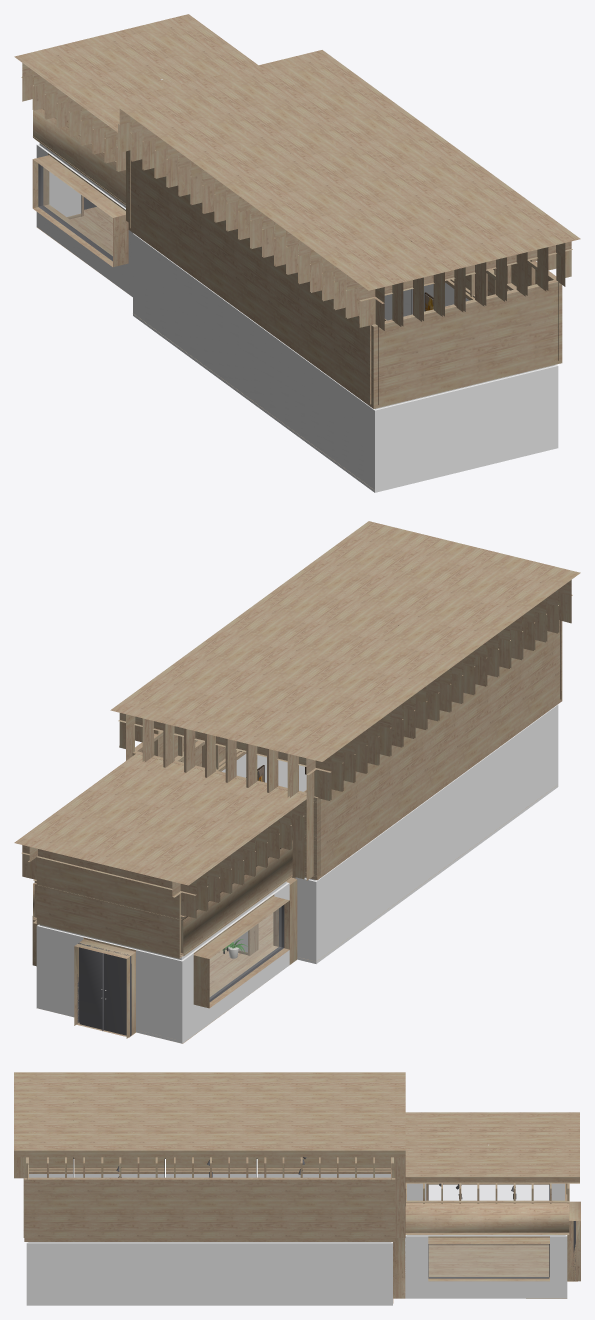
File: gallery.glb
3 views of the same model, one above another, from view 1: azimuth 30°, elevation 25°; view 2: azimuth 150°, elevation 25°; view 3: azimuth 270°, elevation 25° (orthographic). The views are drawn at different scales.
Parts seen in each view (by area): view 1: gallery_ceiling, gallery_walls, gallery_trims, gallery_window_glass, gallery_floor, gallery_door_window_frames; view 2: gallery_ceiling, gallery_walls, gallery_trims, gallery_door_window_frames, gallery_window_glass, gallery_floor; view 3: gallery_ceiling, gallery_walls, gallery_window_glass, gallery_trims, gallery_floor, gallery_door_window_frames.
Part boxes in pixels (box(x1,y1,x2,y2)): gallery_ceiling: box(14, 14, 580, 408); gallery_walls: box(36, 143, 558, 492); gallery_trims: box(32, 153, 386, 488); gallery_window_glass: box(41, 166, 112, 258); gallery_floor: box(36, 206, 123, 290); gallery_door_window_frames: box(38, 163, 112, 261); gallery_ceiling: box(14, 521, 580, 958); gallery_walls: box(36, 704, 558, 1043); gallery_trims: box(32, 786, 555, 1038); gallery_door_window_frames: box(77, 905, 284, 1036); gallery_window_glass: box(210, 907, 281, 998); gallery_floor: box(76, 913, 273, 1043); gallery_ceiling: box(14, 1072, 579, 1241); gallery_walls: box(26, 1174, 567, 1305); gallery_window_glass: box(429, 1185, 548, 1277); gallery_trims: box(393, 1183, 580, 1303); gallery_floor: box(428, 1245, 577, 1298); gallery_door_window_frames: box(428, 1184, 575, 1280).
Size of what is drawn, in the model's own units: 8.1 by 7.74 by 24.75.
29 materials, 12 textured.
